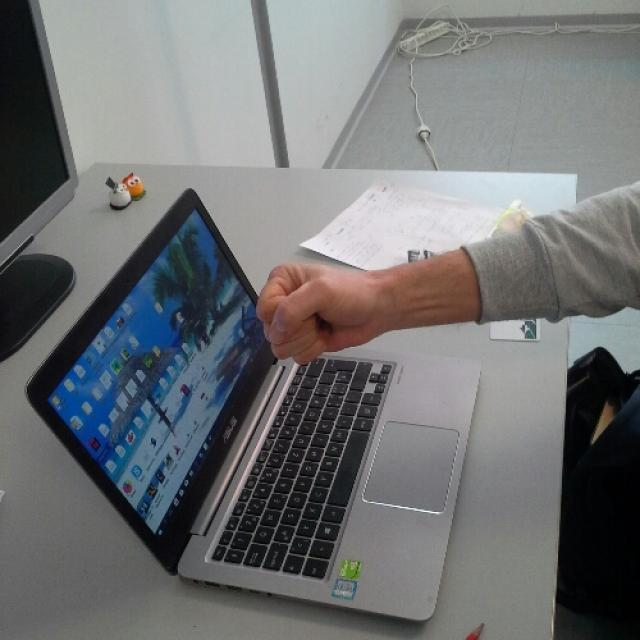fist: (254, 262, 372, 366)
